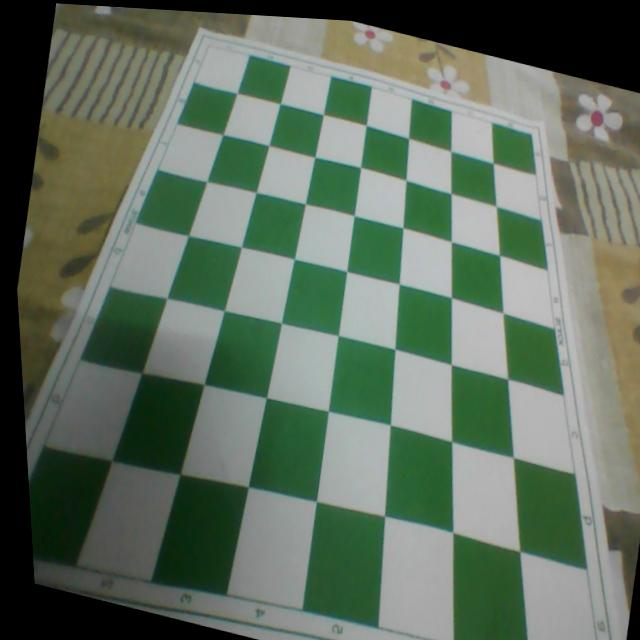square: (71, 447, 186, 593), (144, 467, 255, 606), (218, 479, 325, 619), (363, 511, 476, 640), (295, 496, 400, 633), (26, 435, 117, 580), (434, 530, 551, 640), (105, 361, 210, 482), (41, 350, 147, 469), (435, 439, 540, 558), (501, 457, 604, 572), (175, 379, 272, 498), (372, 420, 470, 537), (502, 548, 624, 640), (240, 391, 335, 508), (312, 410, 402, 524), (77, 276, 170, 381), (494, 375, 588, 477), (440, 361, 531, 461), (198, 304, 287, 404), (379, 346, 467, 446), (260, 316, 344, 419), (141, 291, 228, 389), (323, 333, 406, 430), (439, 293, 524, 384), (217, 240, 298, 332), (495, 310, 578, 397), (164, 229, 243, 315), (387, 282, 466, 368), (333, 266, 409, 355), (275, 255, 352, 341), (132, 163, 210, 242), (110, 223, 189, 301), (391, 224, 464, 302), (444, 240, 516, 314), (290, 198, 359, 275), (442, 191, 512, 262), (239, 189, 308, 261), (343, 212, 411, 285), (251, 140, 318, 210), (396, 177, 462, 246), (204, 129, 270, 198), (490, 206, 557, 272), (351, 164, 414, 233), (189, 183, 256, 247), (397, 135, 460, 200), (302, 152, 364, 218), (500, 257, 554, 330), (157, 124, 222, 183), (177, 79, 238, 140), (444, 149, 505, 207), (485, 118, 545, 175), (268, 101, 325, 160), (404, 95, 460, 151), (359, 125, 414, 182), (223, 93, 281, 146), (237, 50, 292, 105), (193, 45, 250, 95), (315, 115, 367, 169), (322, 72, 374, 124), (493, 164, 541, 220), (280, 67, 331, 115), (366, 87, 413, 139), (451, 111, 494, 165)
